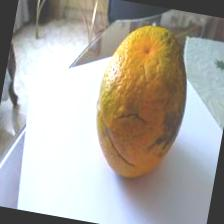Orange Rotten: (77, 10, 204, 191)
